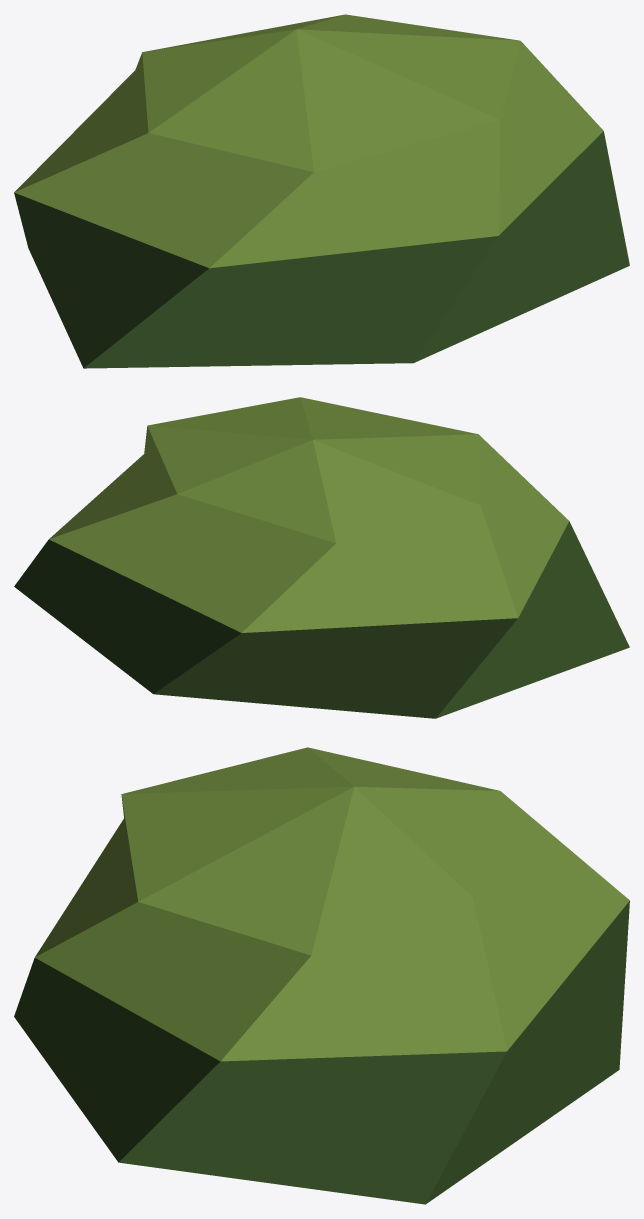
File: gf_stone_a.glb
The picture shows the model from 3 angles, top to bottom: view 1: azimuth 30°, elevation 25°; view 2: azimuth 150°, elevation 25°; view 3: azimuth 270°, elevation 25°; orthographic projection. The views are drawn at different scales.
Visible parts, largest first — view 1: gf_stone_a; view 2: gf_stone_a; view 3: gf_stone_a.
Boxes of the visible parts, x1,y1,x2,y2 form: gf_stone_a: (14,14,629,368); gf_stone_a: (14,397,629,718); gf_stone_a: (14,747,629,1204).
Bounding box in the file's own units: 0.1766 × 0.062 × 0.1397.
